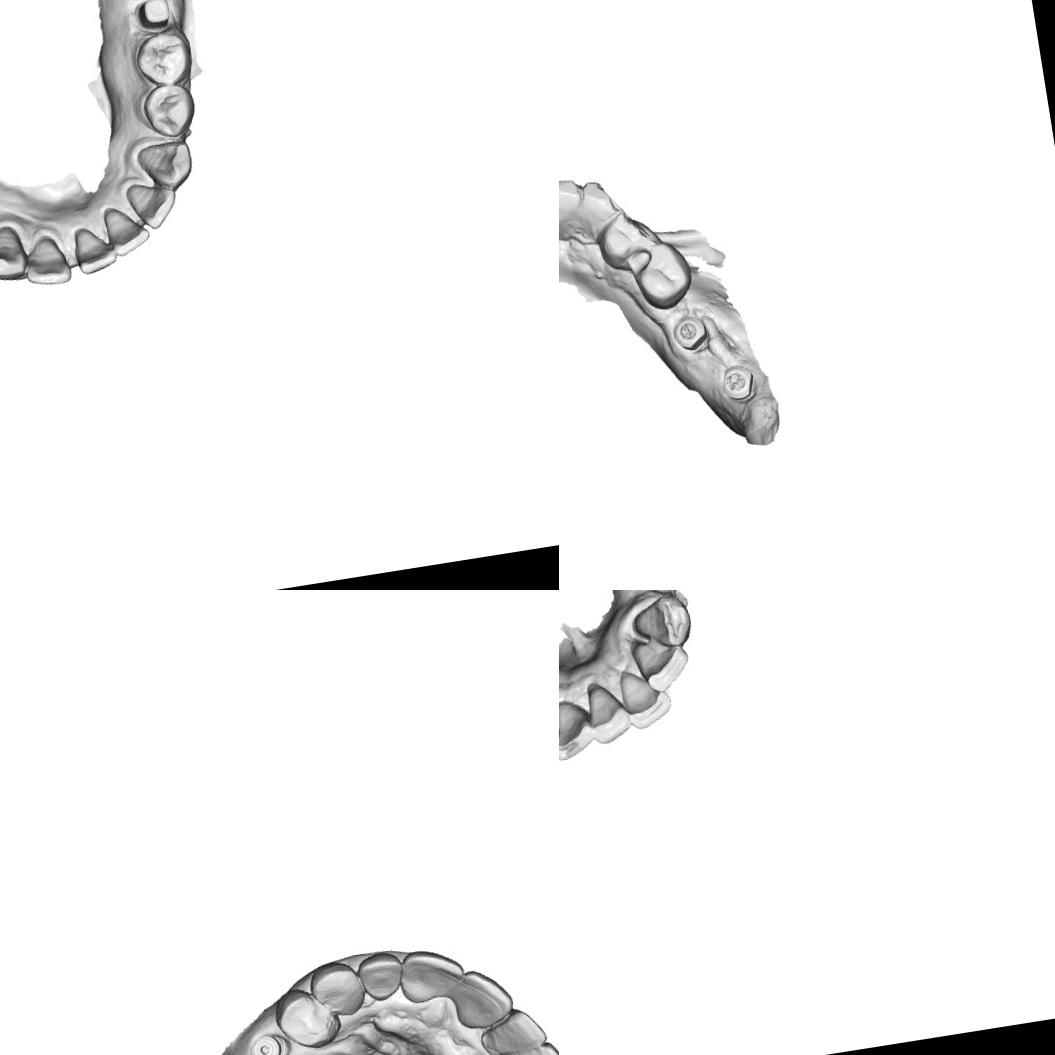abutment: (130, 0, 179, 38)
canine: (626, 590, 697, 654), (306, 956, 369, 1020), (132, 136, 196, 196), (577, 177, 624, 224), (0, 220, 31, 288), (489, 1038, 559, 1055)
implant: (718, 360, 759, 405), (668, 312, 710, 354), (246, 1030, 291, 1055)
incisor: (449, 964, 517, 1032), (614, 660, 678, 732), (395, 943, 468, 1006), (631, 628, 695, 697), (476, 1003, 549, 1055), (120, 176, 184, 235), (584, 677, 636, 748), (16, 231, 75, 292), (100, 200, 154, 262), (559, 694, 601, 765), (355, 949, 408, 1004), (70, 220, 120, 278), (559, 175, 587, 225)
premolar: (270, 982, 345, 1054), (631, 237, 698, 314), (593, 206, 664, 274), (131, 27, 200, 92), (136, 79, 202, 143)
